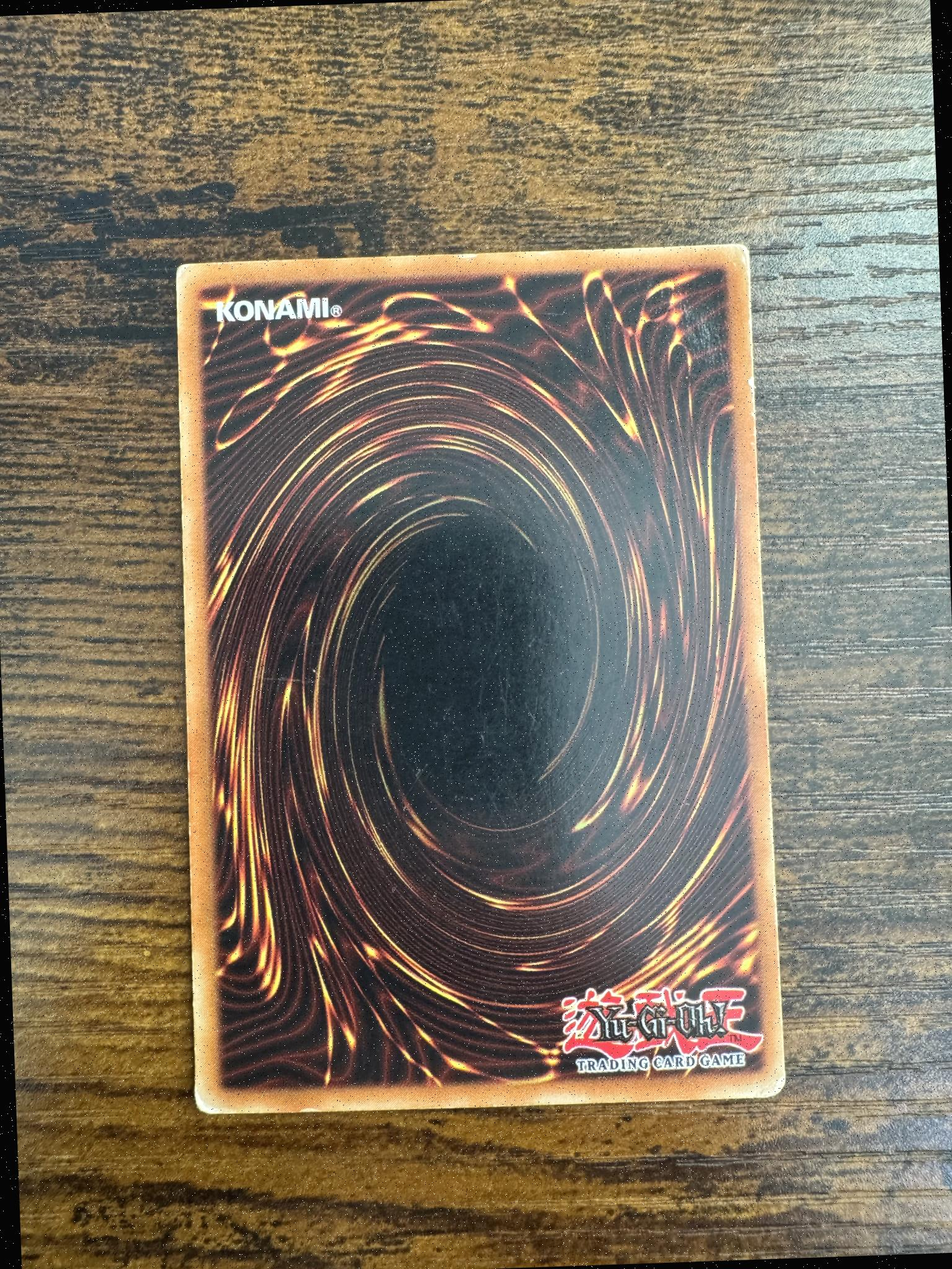card-2UtV: (176, 244, 786, 1115)
